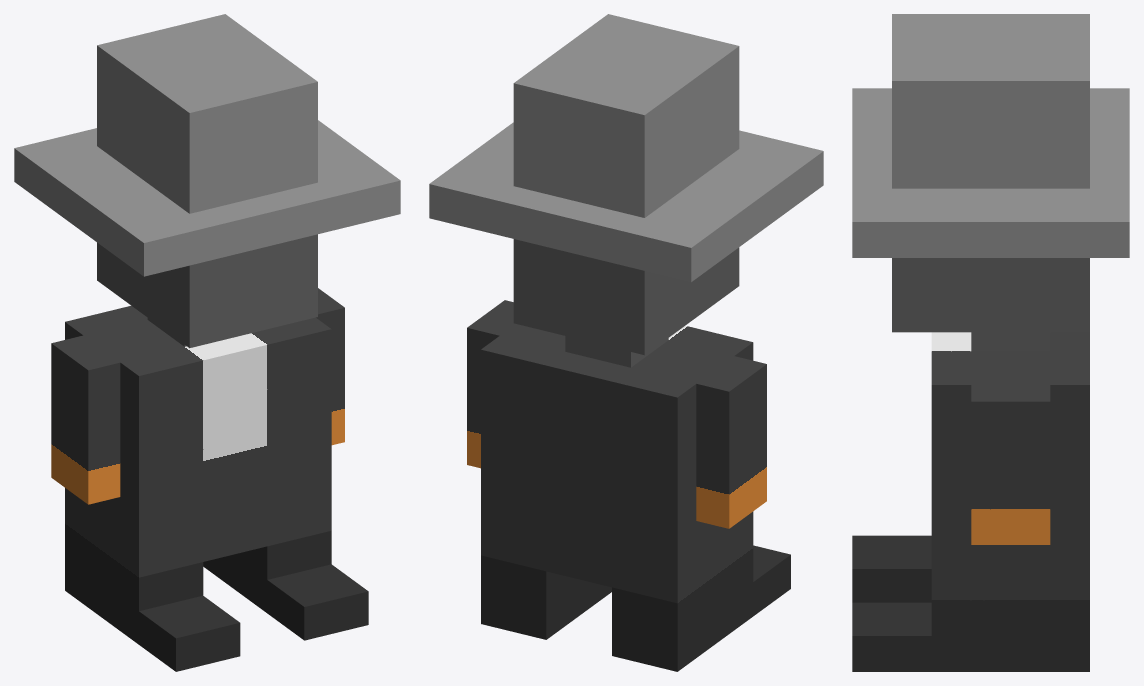
File: Magician.fbx
3 views of the same model, side by side, from view 1: azimuth 30°, elevation 25°; view 2: azimuth 150°, elevation 25°; view 3: azimuth 270°, elevation 25° (orthographic). The views are drawn at different scales.
Parts seen in each view (by area): view 1: Magician; view 2: Magician; view 3: Magician.
Boxes of the visible parts, bbox=[...] form: Magician: bbox=[14, 14, 400, 671]; Magician: bbox=[429, 14, 823, 671]; Magician: bbox=[852, 14, 1129, 671].
Size of the model in its own units: 8 by 16 by 7.
Materials: 1 (1 with a texture image).
